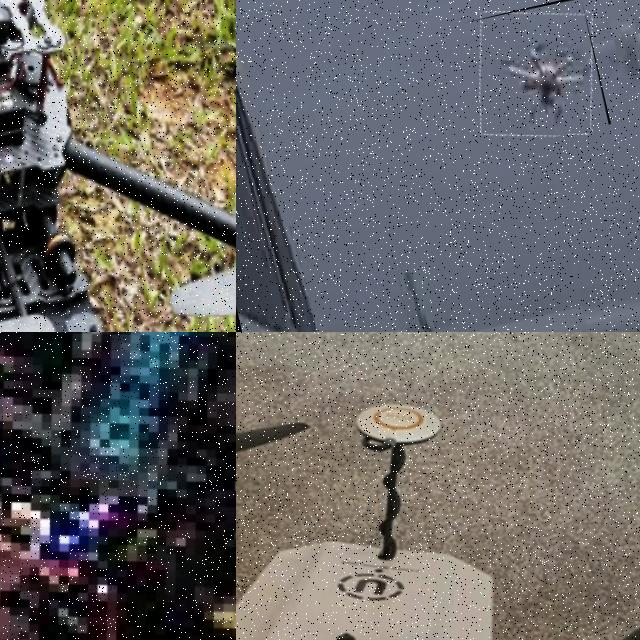drone: (236, 332, 640, 640), (0, 0, 236, 332), (0, 332, 236, 640), (461, 0, 610, 151)
